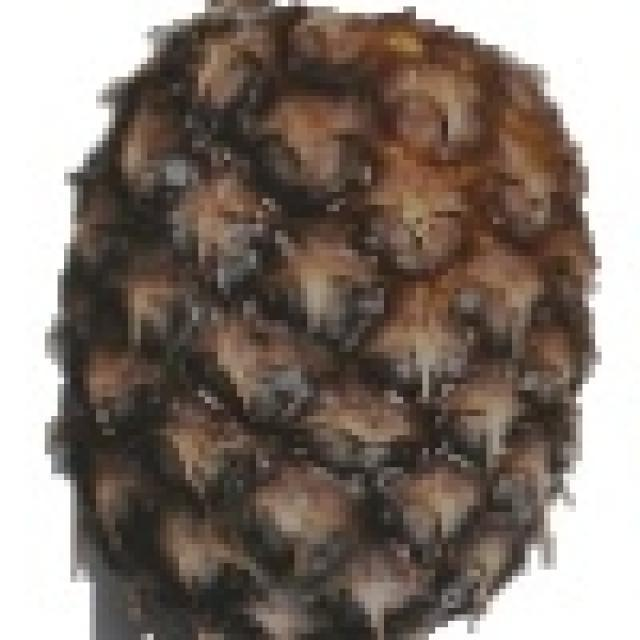pineapple: (50, 0, 596, 639)
